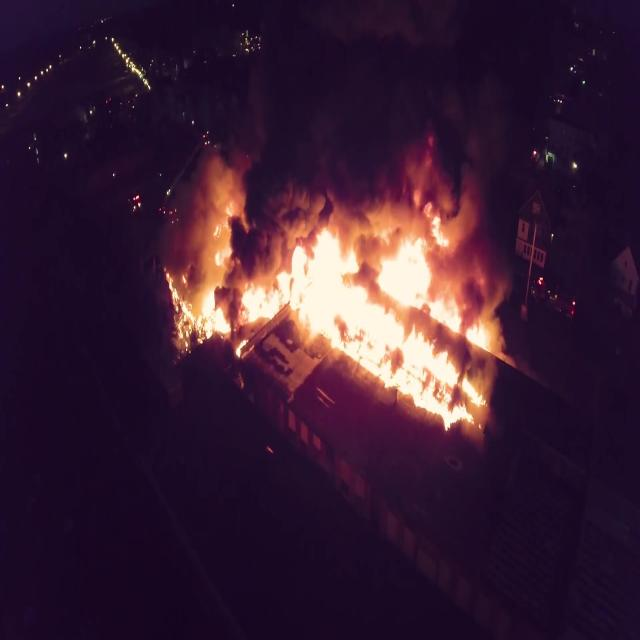Fire: (290, 205, 490, 438), (184, 288, 290, 336)
Smoke: (256, 11, 526, 236), (174, 167, 287, 283)
